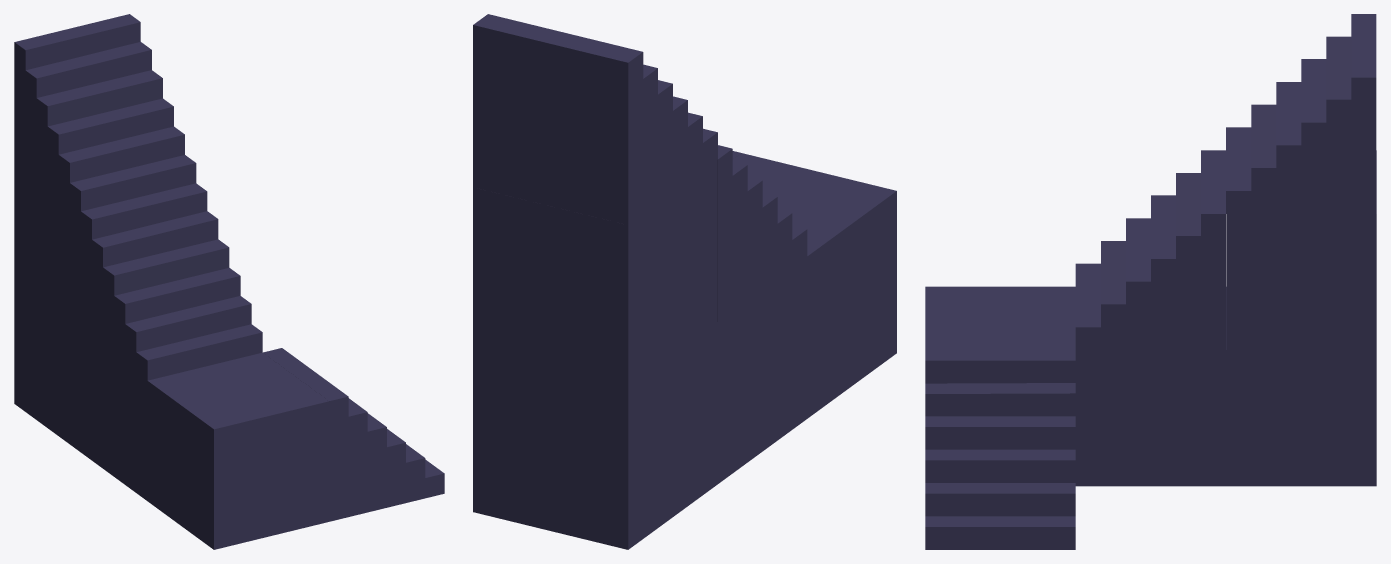
The model's file is stairs-L-block_6x9x9m.fbx.
3 renders of one model, left to right at view 1: azimuth 30°, elevation 25°; view 2: azimuth 150°, elevation 25°; view 3: azimuth 270°, elevation 25°, orthographic. The views are drawn at different scales.
Parts seen in each view (by area): view 1: Cube, Cube.002, Cube.001, Cube.003; view 2: Cube, Cube.002, Cube.001; view 3: Cube, Cube.003, Cube.002, Cube.001.
Boxes of the visible parts, x1,y1,x2,y2 form: Cube: (14,163,329,549); Cube.002: (14,14,196,211); Cube.001: (81,183,262,380); Cube.003: (263,348,444,521); Cube: (473,153,896,549); Cube.002: (473,14,717,224); Cube.001: (717,145,807,321); Cube: (925,150,1376,486); Cube.003: (925,350,1075,549); Cube.002: (1226,14,1376,213); Cube.001: (1075,150,1225,349).
Bounding box in the file's own units: 600 × 900 × 900.
